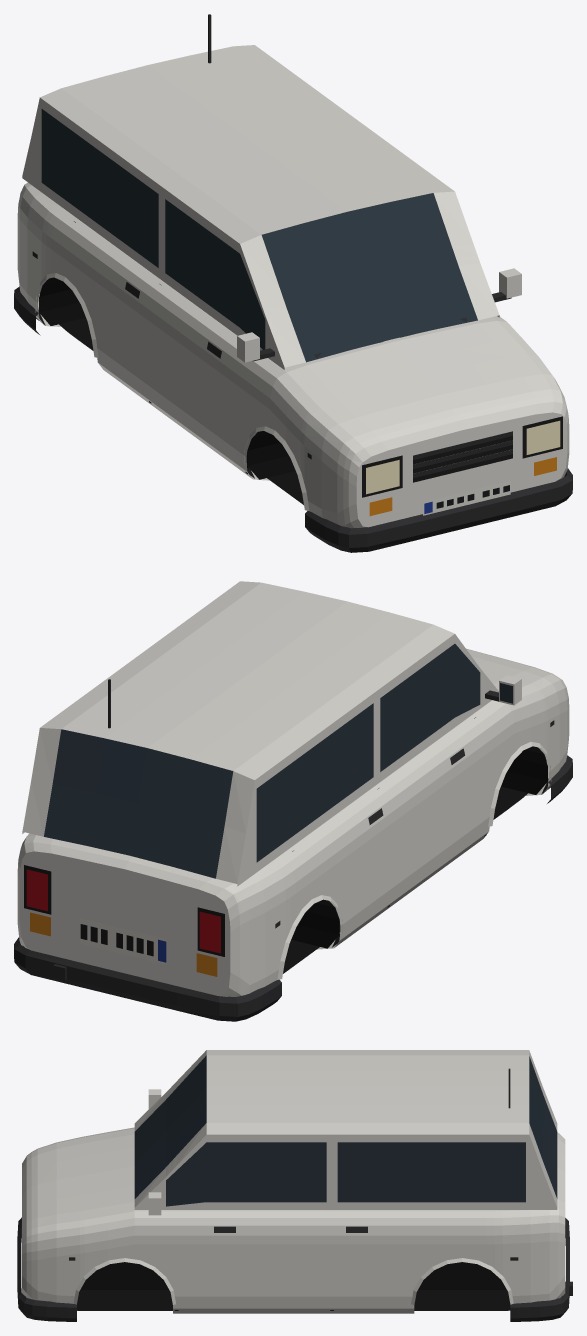
File: seat-panda.glb
The picture shows the model from 3 angles, top to bottom: view 1: azimuth 30°, elevation 25°; view 2: azimuth 150°, elevation 25°; view 3: azimuth 270°, elevation 25°; orthographic projection. The views are drawn at different scales.
Parts seen in each view (by area): view 1: LOD0, door_FR, door_RR; view 2: LOD0, door_FR, door_RR; view 3: LOD0, door_FL, door_RL.
Part boxes in pixels (left/top/right/bottom): LOD0: left=14, top=14, right=572, bottom=552; door_FR: left=148, top=189, right=258, bottom=469; door_RR: left=61, top=125, right=158, bottom=398; LOD0: left=14, top=581, right=572, bottom=1021; door_FR: left=380, top=634, right=488, bottom=902; door_RR: left=291, top=693, right=390, bottom=940; LOD0: left=17, top=1050, right=572, bottom=1321; door_FL: left=176, top=1134, right=330, bottom=1308; door_RL: left=334, top=1134, right=469, bottom=1308.
Size of what is drawn, in the model's own units: 1.65 by 1.6 by 3.58.
